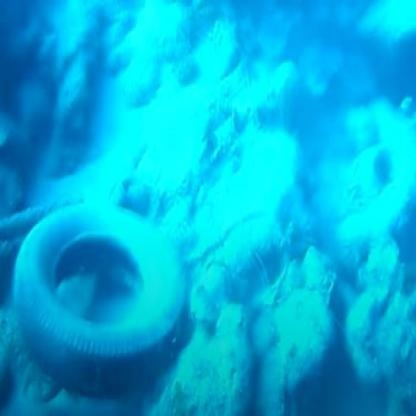tire: (19, 196, 190, 388)
